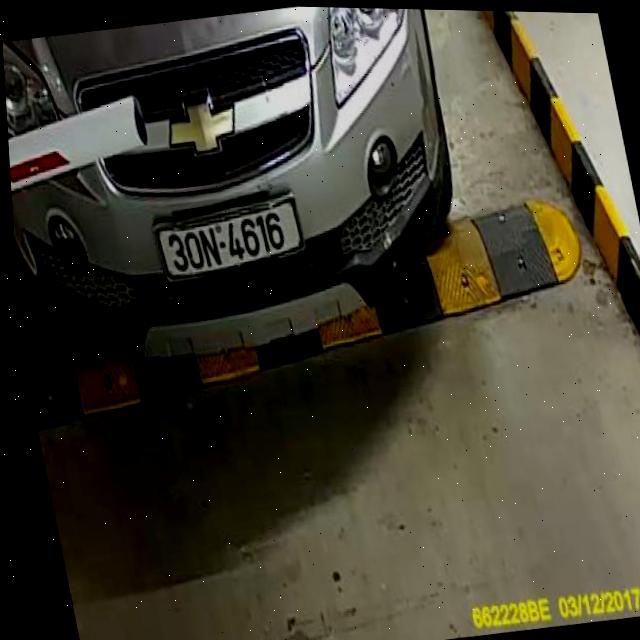car: (0, 0, 499, 400)
plate: (145, 192, 322, 284)
